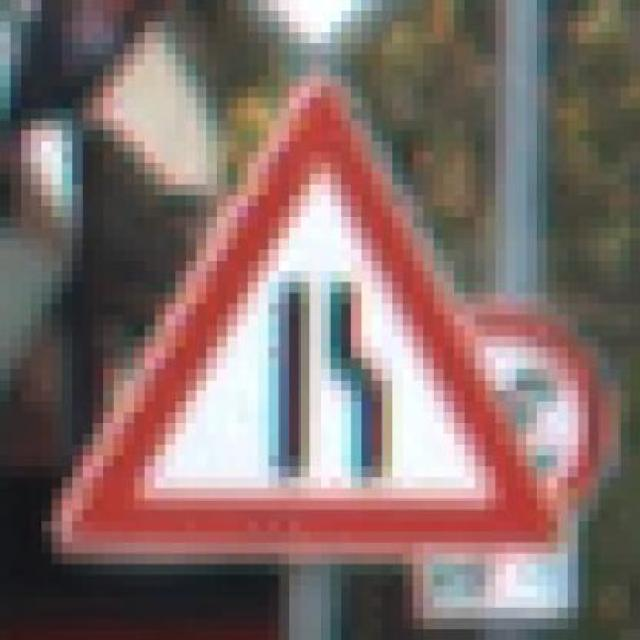-Road narrows on right: (51, 32, 568, 565)
